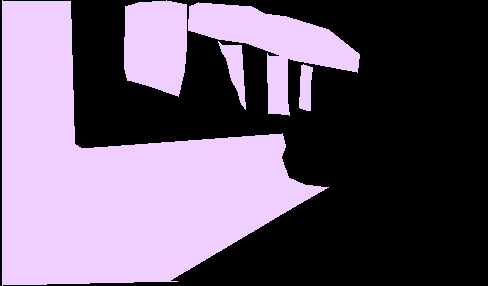Train: (2, 0, 360, 285)
